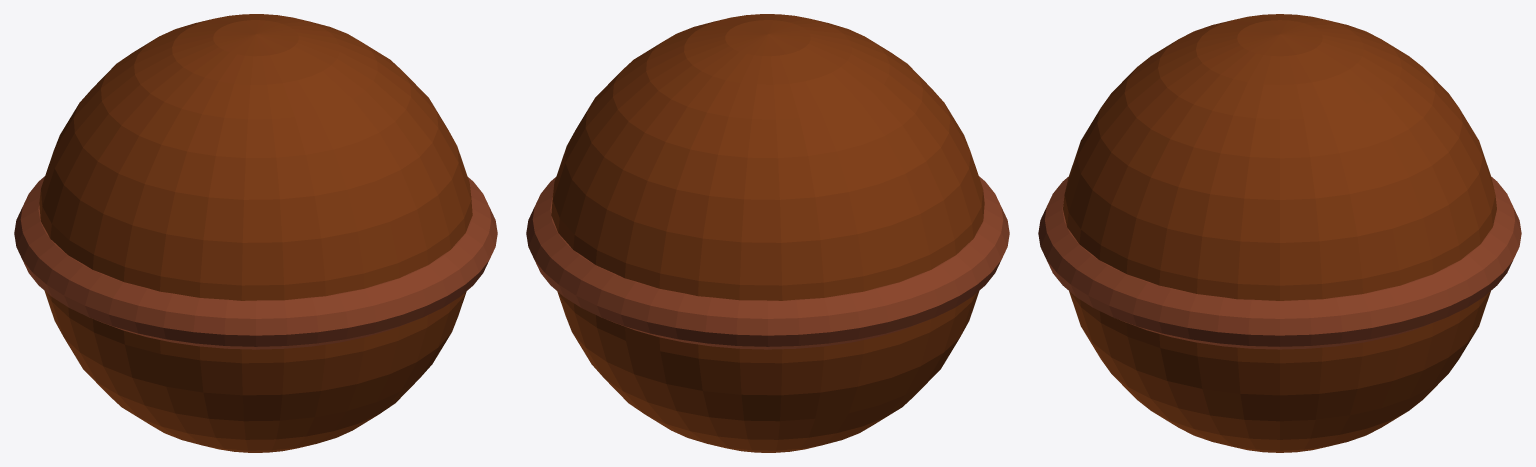
File: asset.glb
The picture shows the model from 3 angles, left to right: view 1: azimuth 30°, elevation 25°; view 2: azimuth 150°, elevation 25°; view 3: azimuth 270°, elevation 25°; orthographic projection.
Visible parts, largest first — view 1: Esfera, Toroide; view 2: Esfera, Toroide; view 3: Esfera, Toroide.
Boxes of the visible parts, bbox=[...] form: Esfera: bbox=[39, 14, 472, 452]; Toroide: bbox=[14, 176, 497, 349]; Esfera: bbox=[551, 14, 984, 452]; Toroide: bbox=[526, 176, 1009, 349]; Esfera: bbox=[1063, 14, 1496, 452]; Toroide: bbox=[1038, 177, 1521, 349].
Size of the model in its own units: 0.55 by 0.5 by 0.55.
